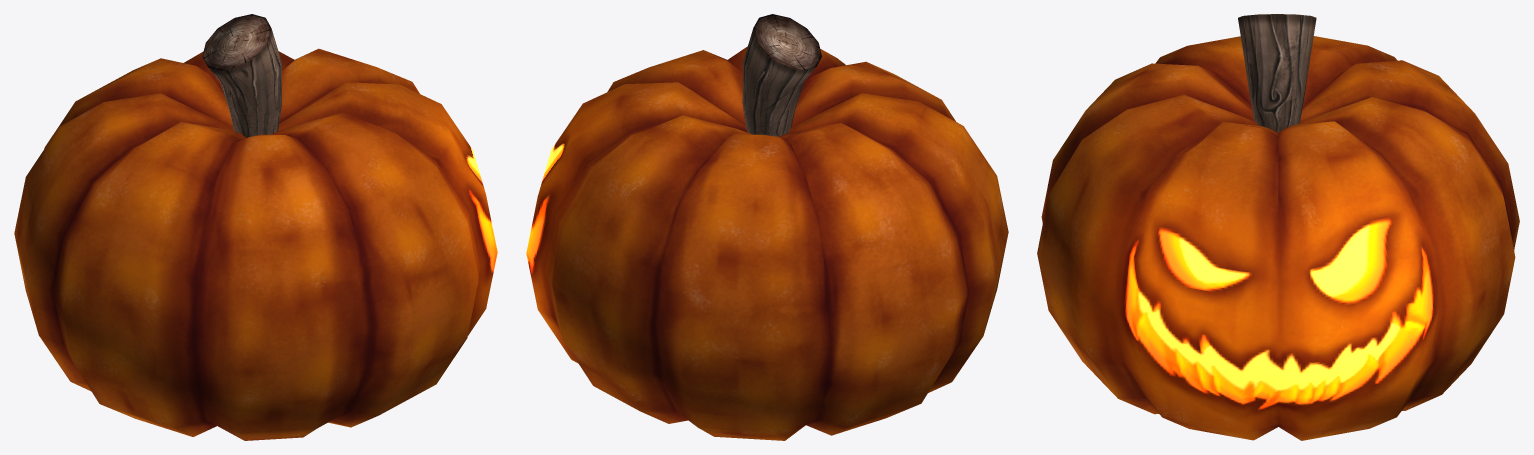
The model's file is Pumpkin.fbx.
3 renders of one model, left to right at view 1: azimuth 30°, elevation 25°; view 2: azimuth 150°, elevation 25°; view 3: azimuth 270°, elevation 25°, orthographic. The views are drawn at different scales.
Parts seen in each view (by area): view 1: pSphere4, pCylinder3; view 2: pSphere4, pCylinder3; view 3: pSphere4, pCylinder3.
Part boxes in pixels (x1,y1,x2,y2): pSphere4: (14, 48, 497, 440); pCylinder3: (202, 14, 281, 137); pSphere4: (526, 46, 1008, 440); pCylinder3: (742, 14, 821, 136); pSphere4: (1037, 36, 1519, 440); pCylinder3: (1238, 14, 1316, 132).
Bounding box in the file's own units: 3.77 × 3.17 × 3.68.
Materials: 2 (2 with a texture image).
